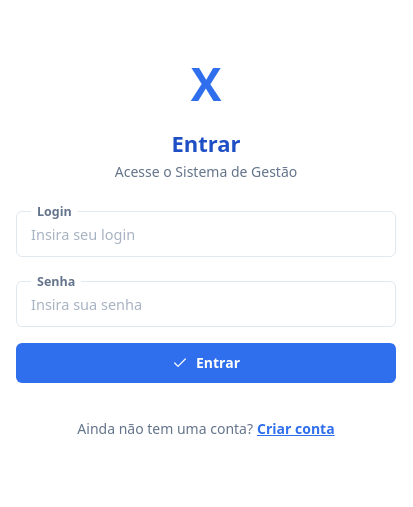
Scenario: LoginPage › deve exibir erro se as senhas não coincidirem no registro
Click the button "Criar conta" at (296, 428), box [257, 419, 335, 438]
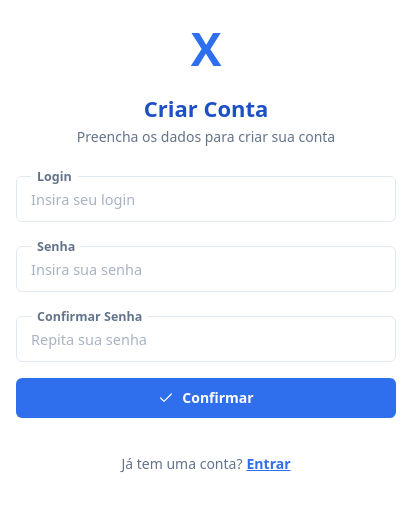
Type "admin" into the field with placeholder "Insira seu login" at (206, 198), box [31, 185, 381, 211]
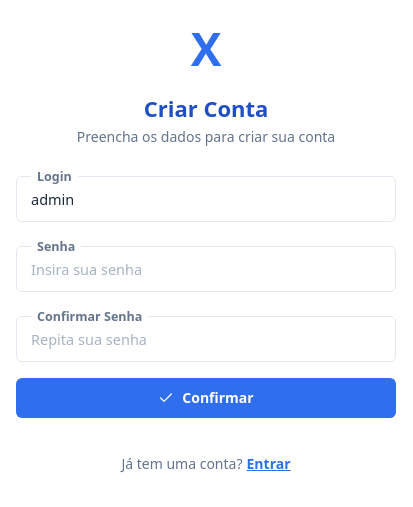
Type "123456" into the password field with placeholder "Insira sua senha" at (206, 268), box [31, 255, 381, 281]
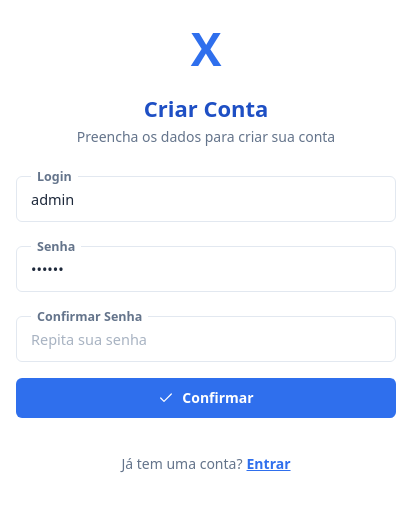
Type "654321" into the password field with placeholder "Repita sua senha" at (206, 338), box [31, 325, 381, 351]
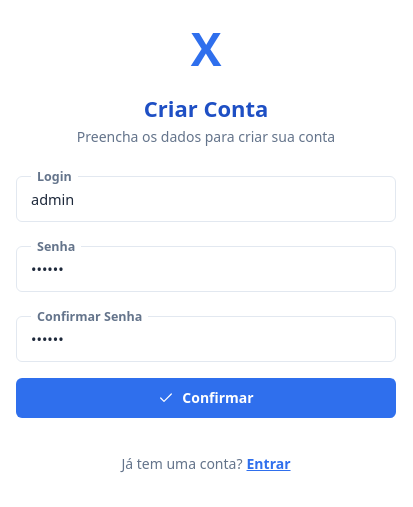
Click the button "Confirmar" at (206, 398), box [16, 378, 396, 418]
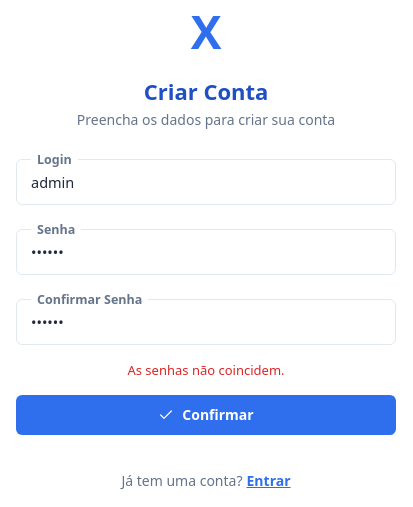
Expected: the text "As senhas não coincidem." is shown, [128, 361, 285, 379]
